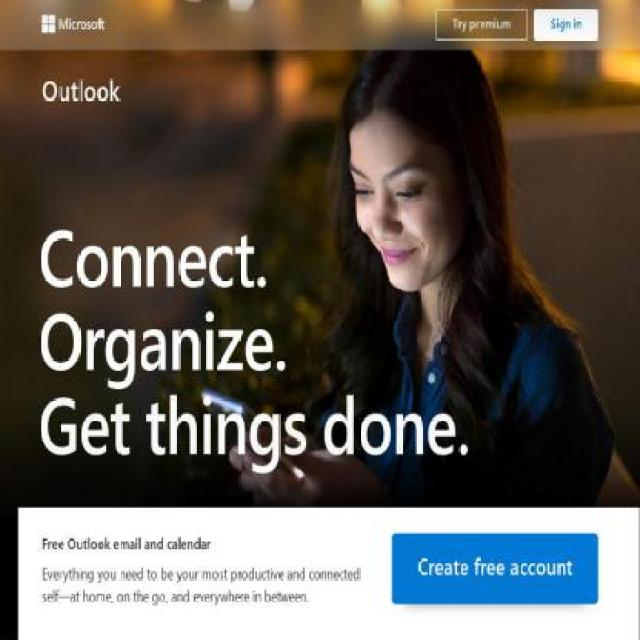button: (392, 533, 599, 604), (435, 8, 528, 40), (534, 8, 598, 40), (41, 15, 107, 33)
